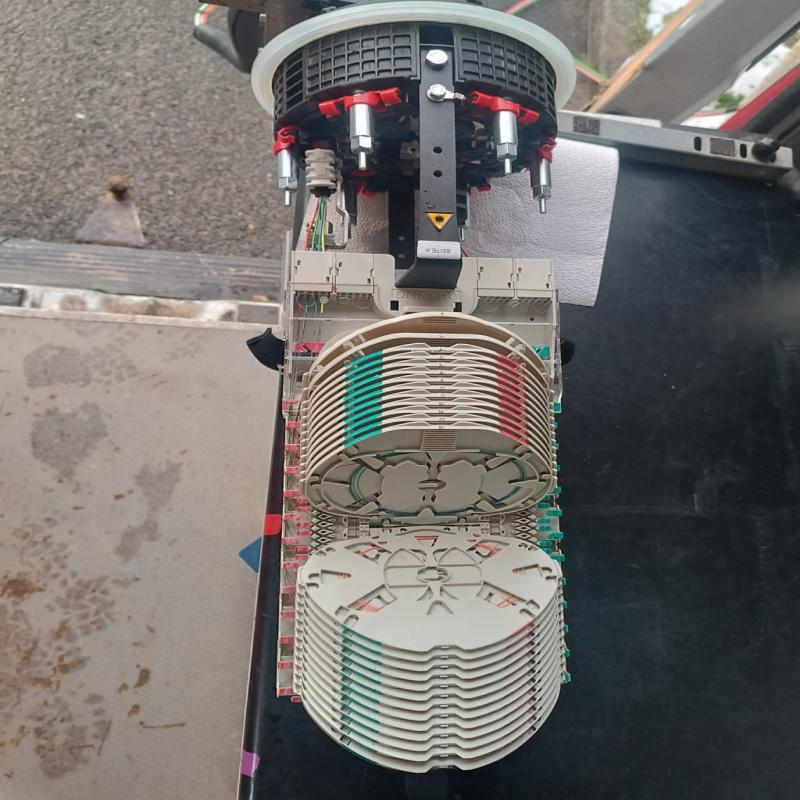NT-Muffen: (247, 1, 583, 776)
